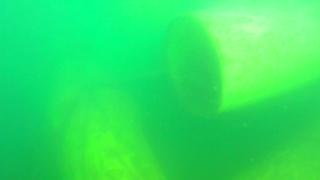pipe: (165, 1, 320, 118), (46, 80, 168, 180), (232, 133, 320, 180)
